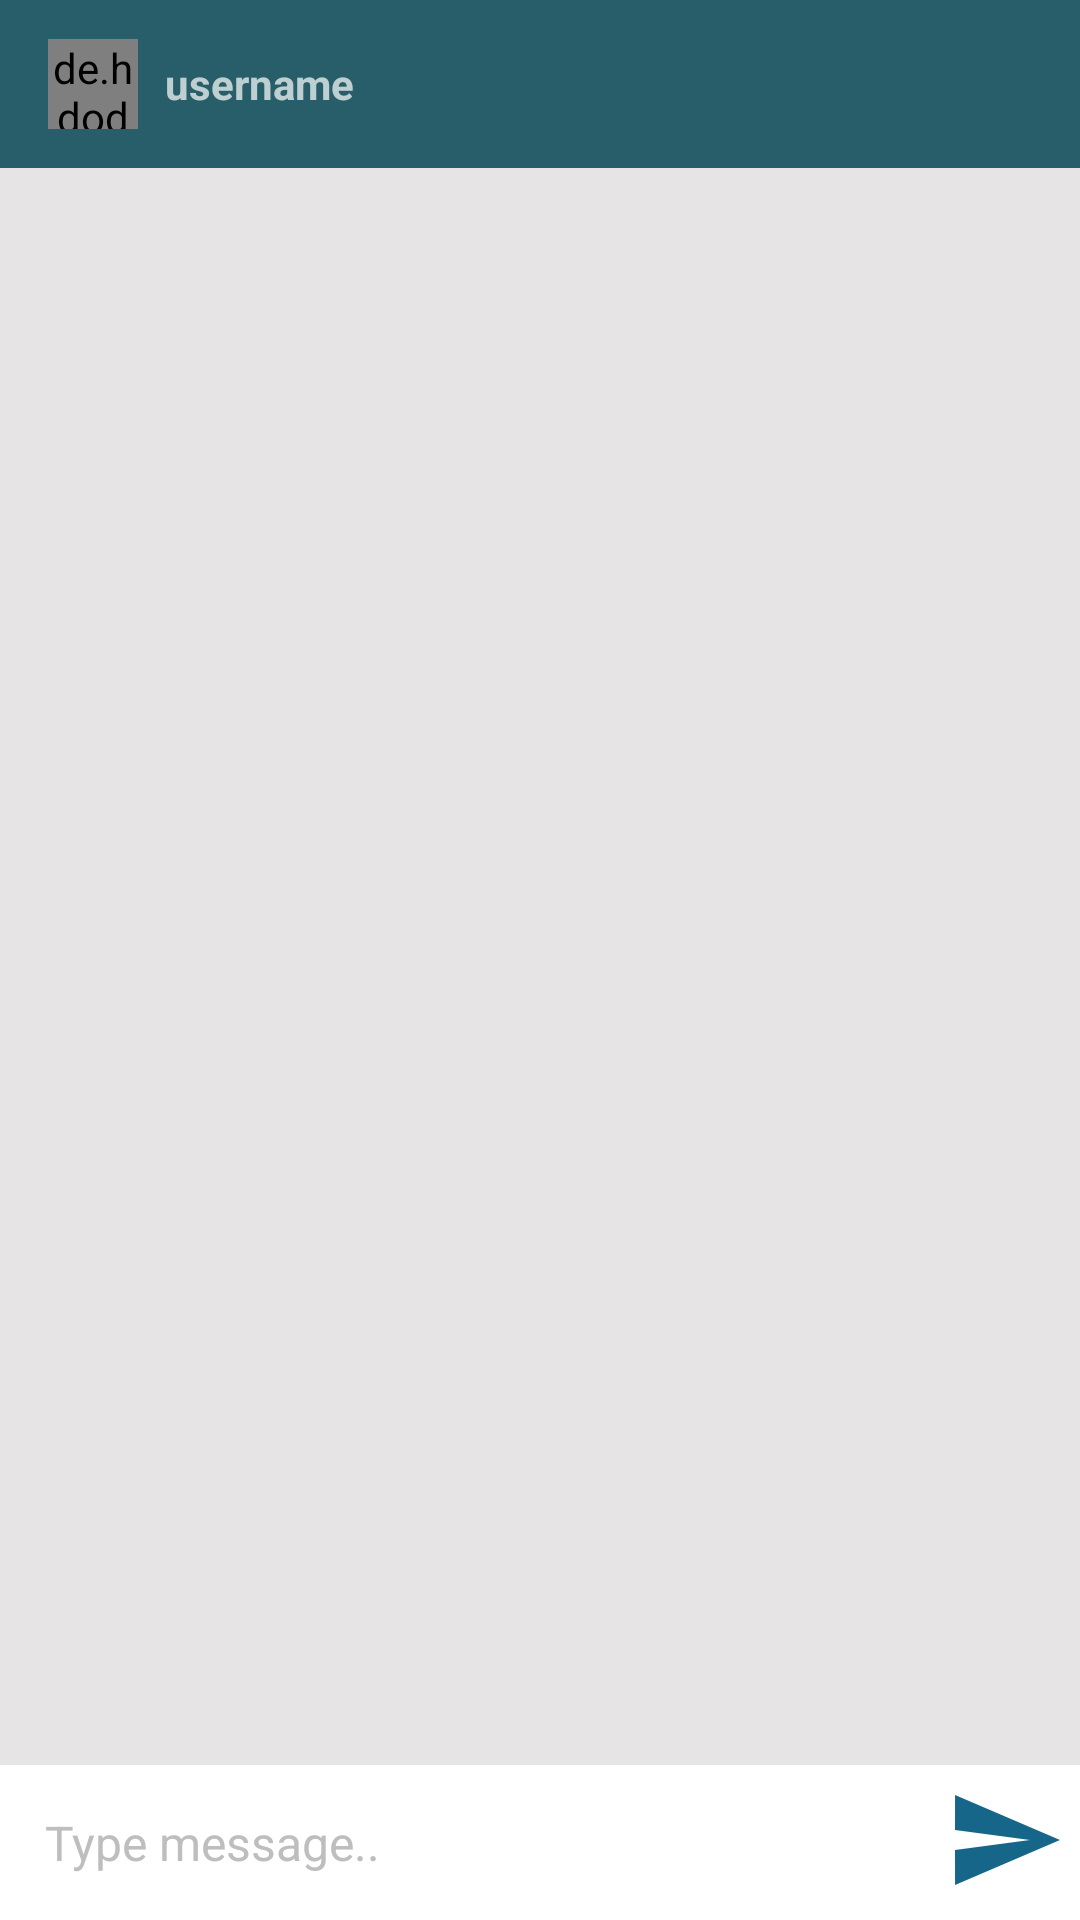

Named icons in this screenshot (1080px×1920px) and their bounding boxes, (x1, y1, x2, y2):
send: (955, 1795, 1060, 1885)
